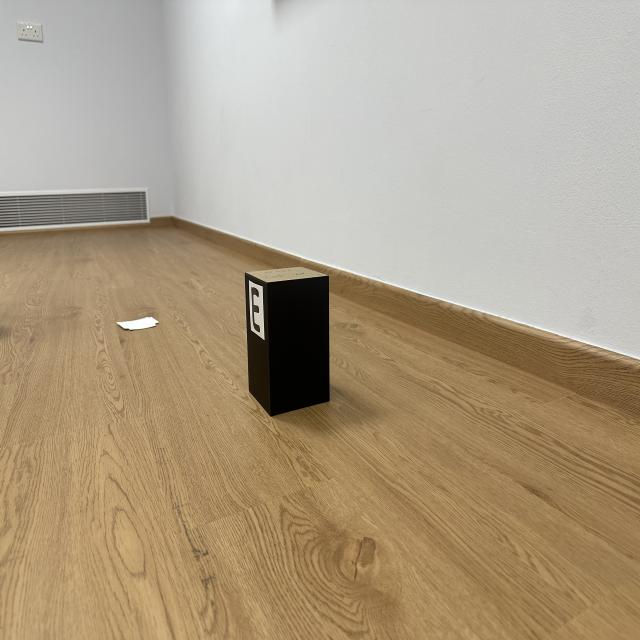E: (251, 288, 260, 332)
